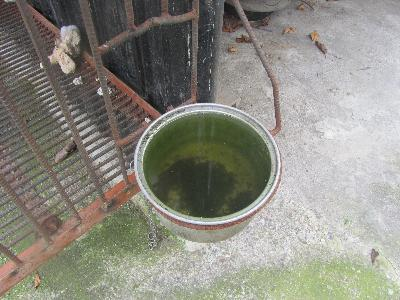bucket: (133, 101, 281, 245)
